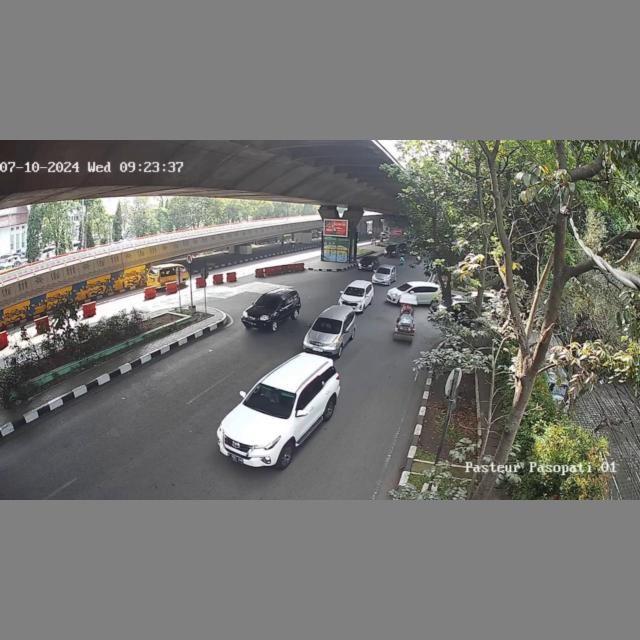windshield: (244, 380, 296, 418), (312, 314, 343, 334), (253, 292, 283, 309), (346, 286, 365, 295)
